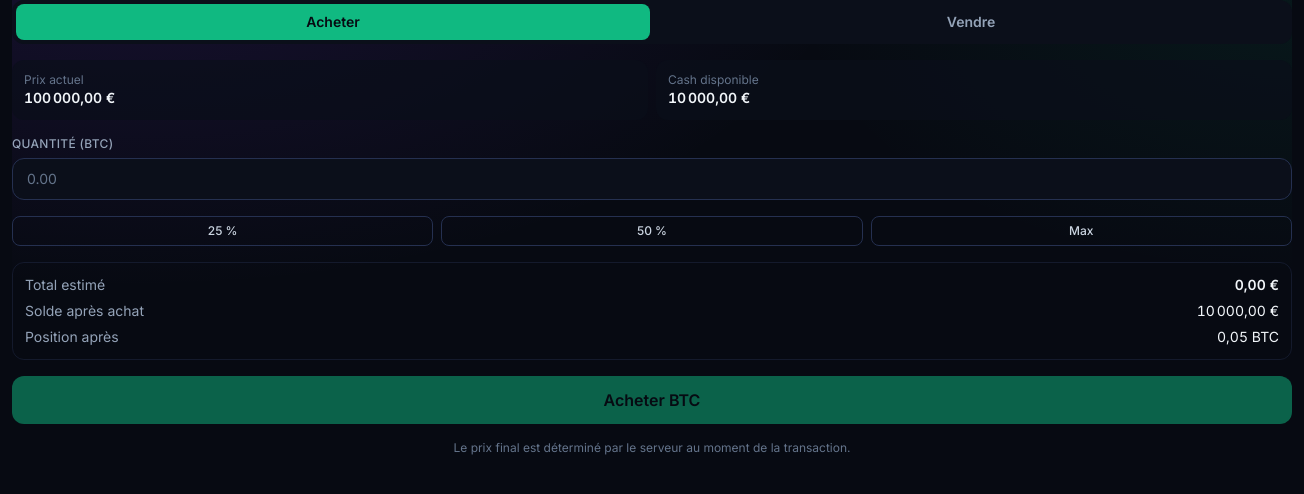
it: TransactionForm › refuse une quantité nulle et désactive le bouton
Type "0" into the field labelled "Quantité (BTC)" at x=652, y=179, box [12, 158, 1292, 200]
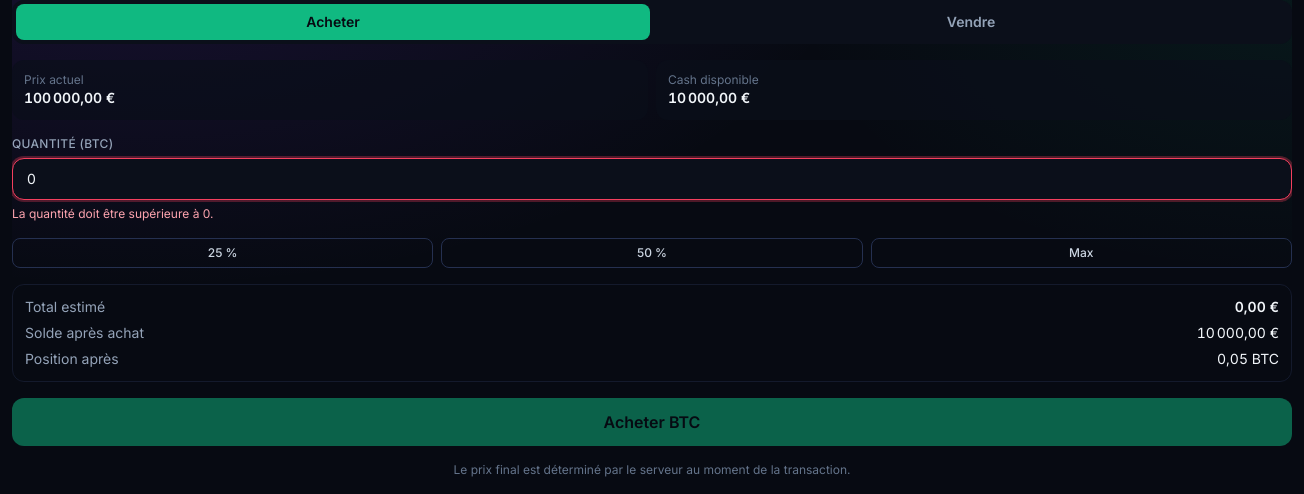
Check: the button "Acheter BTC" is disabled, box [12, 398, 1292, 446]
Check: the text "La quantité doit être supérieure à 0." is shown, box [12, 206, 214, 221]
